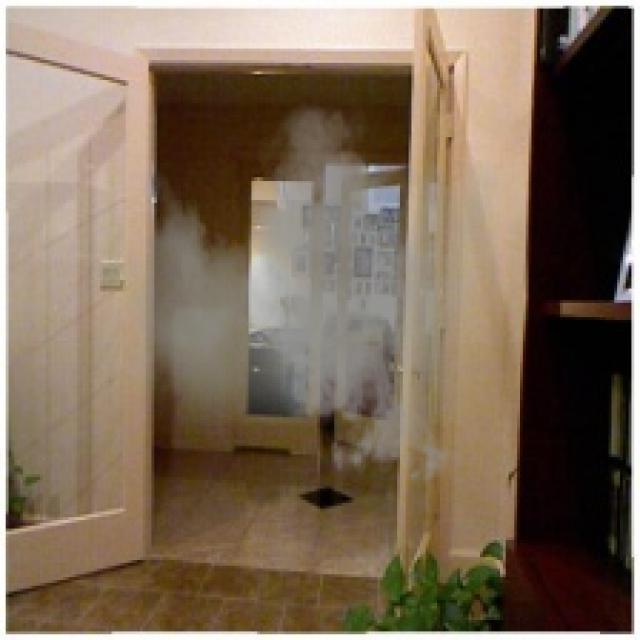Smoke: (126, 89, 500, 498)
